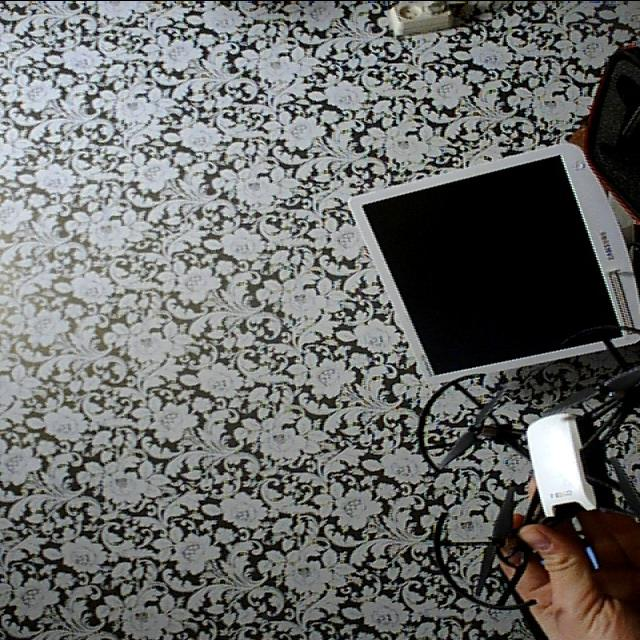drone: (405, 318, 640, 618)
